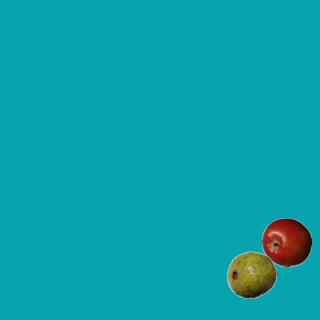Apple Braeburn: (261, 217, 311, 267)
Guava: (226, 249, 276, 299)
